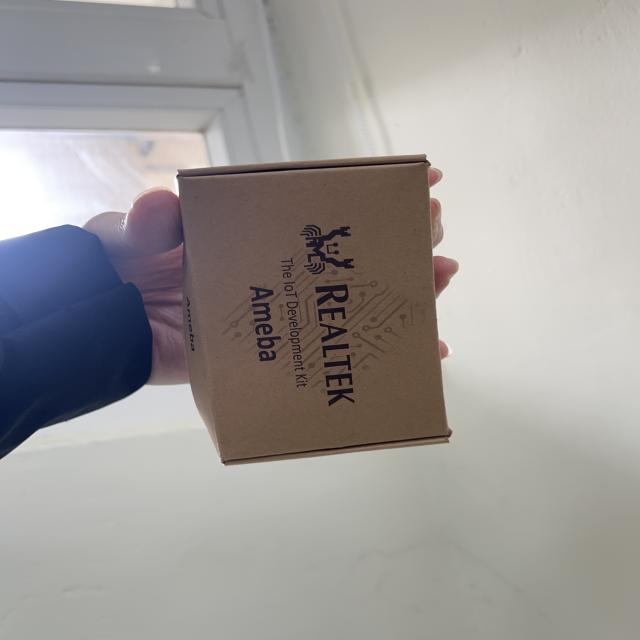box: (156, 150, 479, 496)
